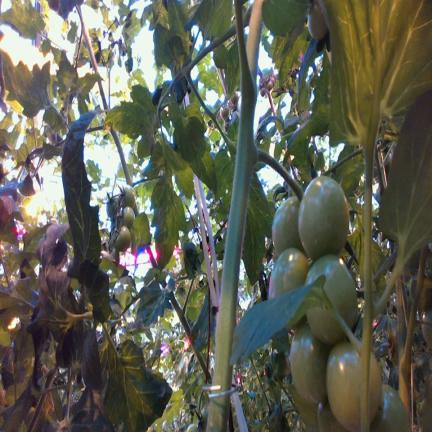6kp_peduncle: (231, 112, 304, 205)
6kp_petiole: (236, 13, 259, 133), (398, 314, 416, 399), (172, 289, 191, 331)
MainStem: (206, 0, 263, 431), (170, 293, 211, 381), (397, 273, 411, 430), (111, 130, 133, 187), (82, 22, 99, 73)
tomato: (326, 342, 382, 430), (306, 254, 357, 344), (298, 176, 349, 260), (290, 323, 330, 403), (269, 248, 309, 298), (272, 196, 305, 255), (370, 385, 410, 431), (318, 401, 347, 431), (308, 0, 328, 39), (422, 309, 432, 349), (116, 226, 130, 250), (106, 194, 118, 218), (123, 206, 135, 229), (124, 185, 135, 207), (201, 406, 208, 430), (220, 104, 229, 120), (185, 423, 198, 431)
